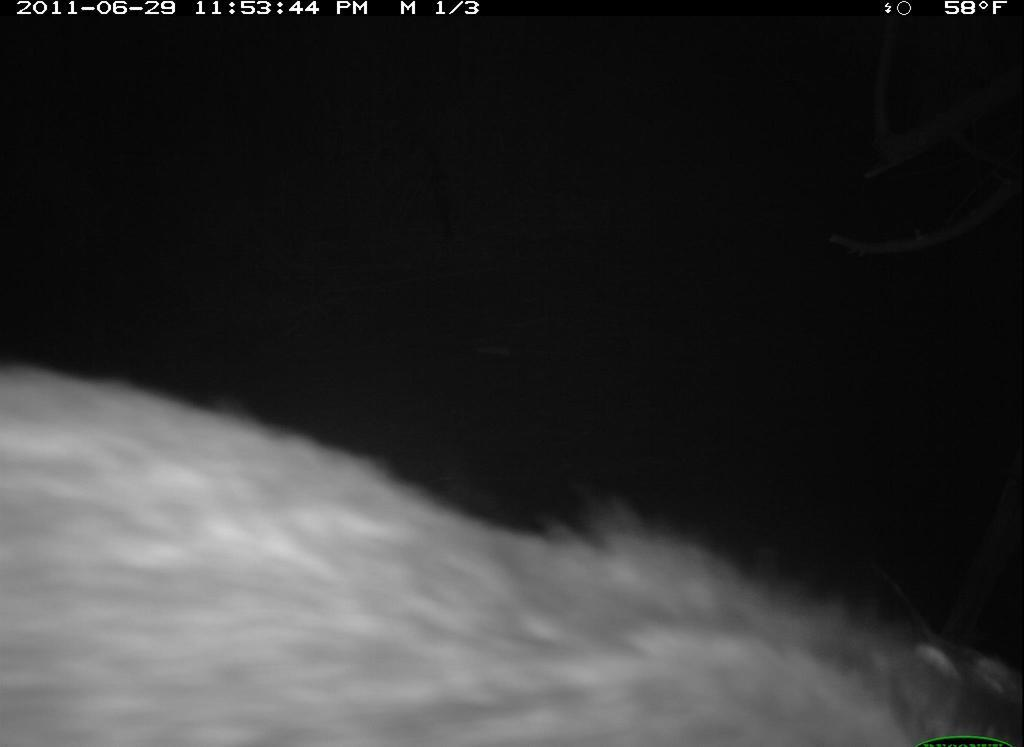raccoon: (3, 350, 1017, 747)
